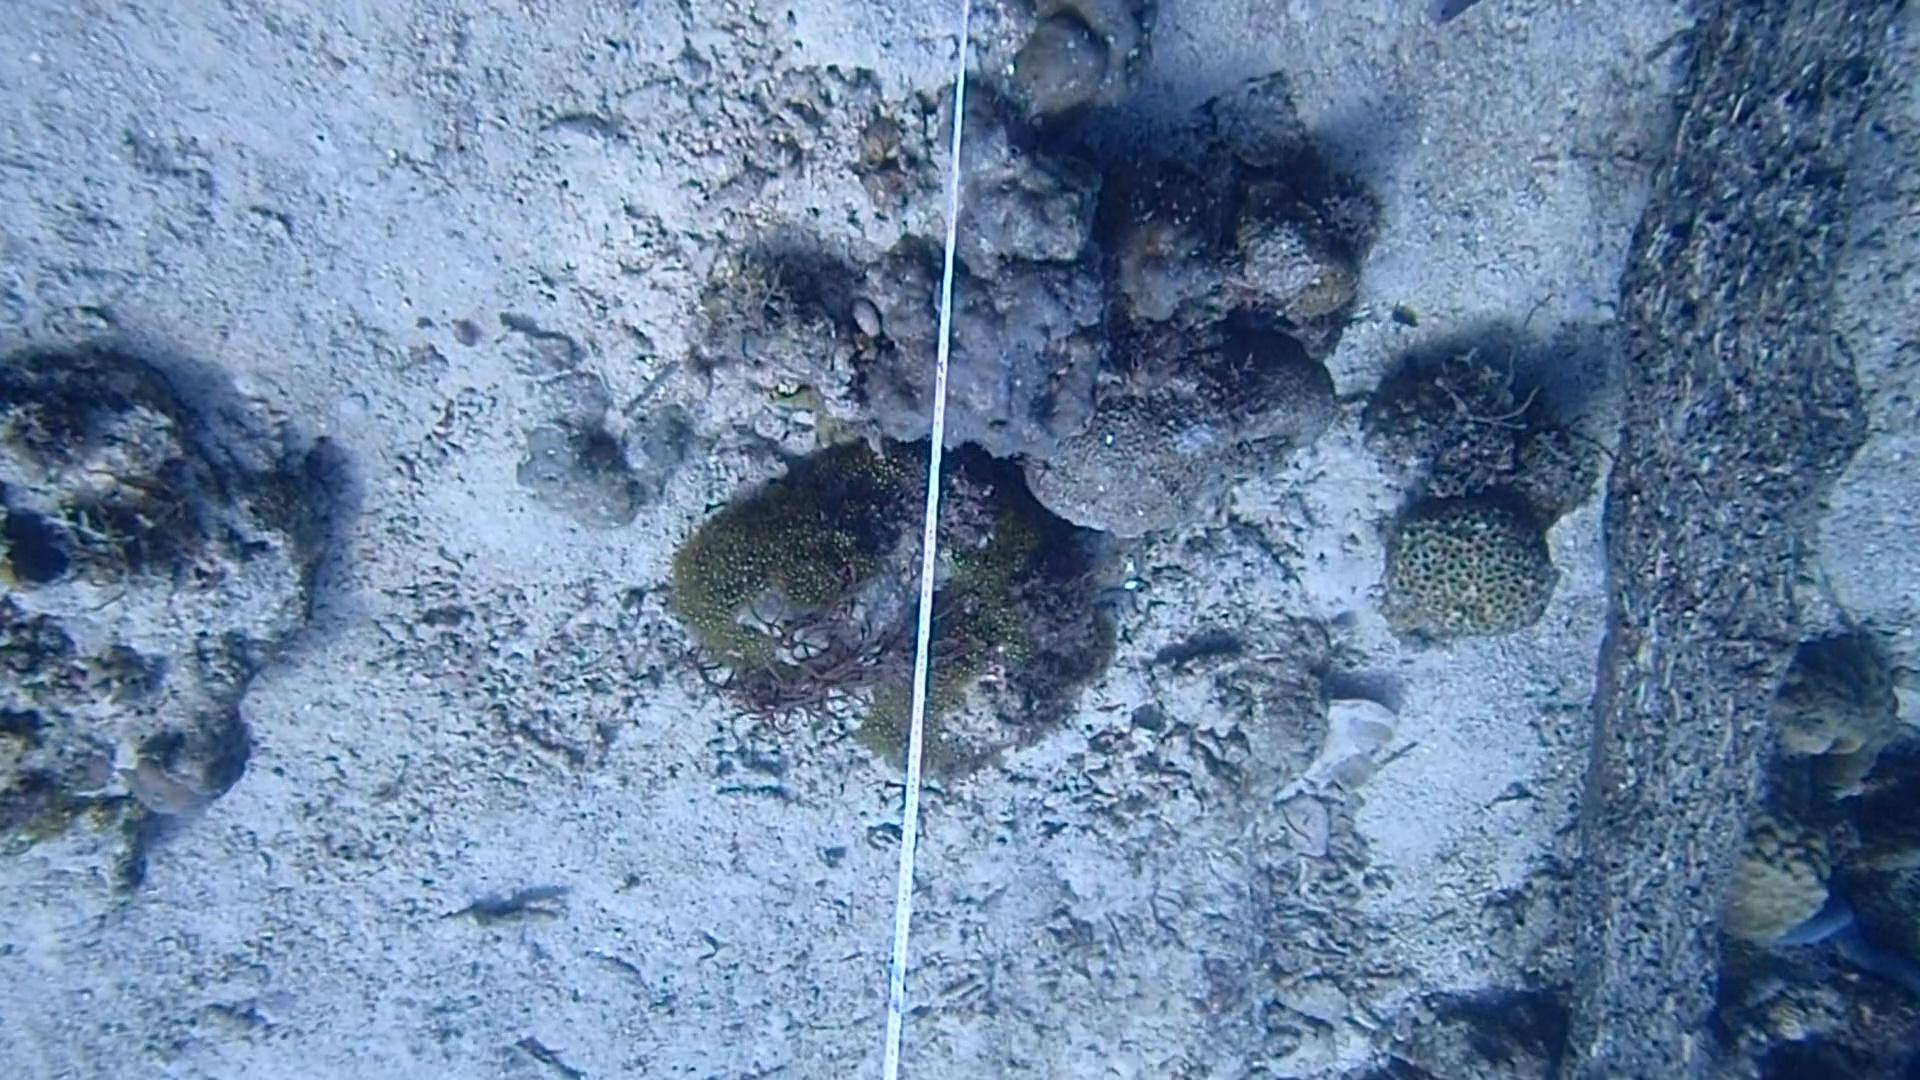UI: (1379, 294, 1431, 340)
